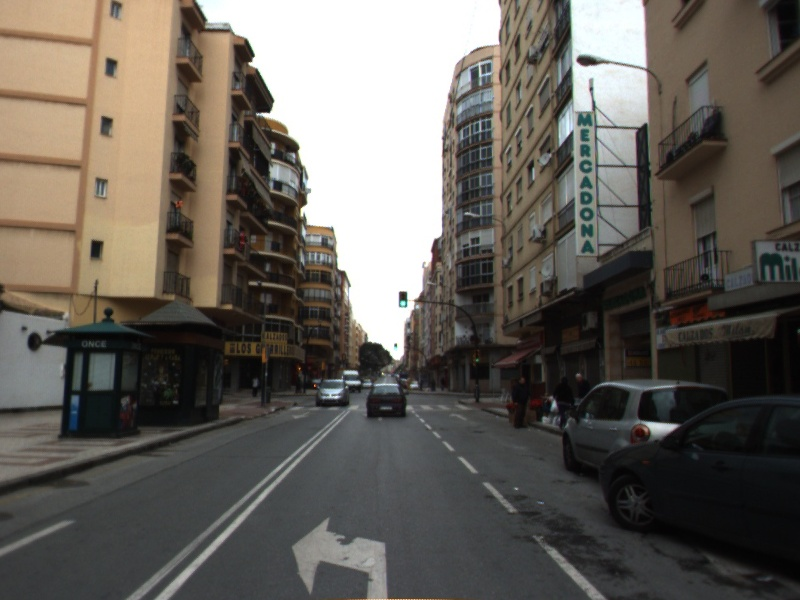LEFT: (290, 515, 388, 600)
STRAIGHT: (448, 412, 469, 422)
